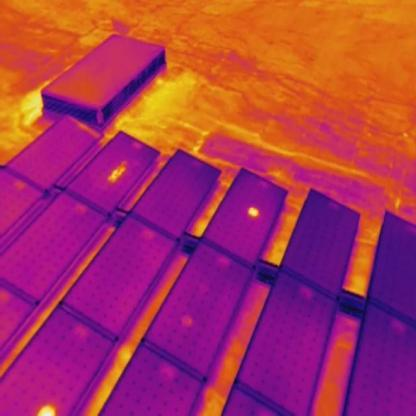anomaly: (106, 163, 127, 184), (34, 402, 62, 416), (246, 206, 258, 218)
